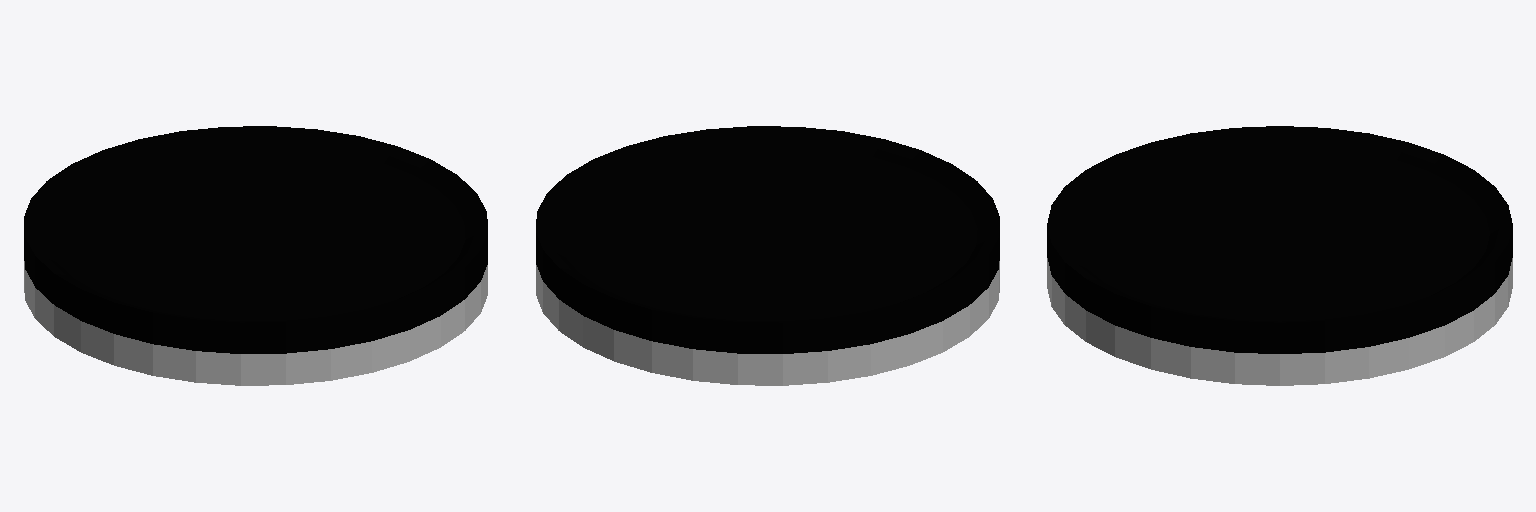
File: disk.obj
3 views of the same model, side by side, from view 1: azimuth 30°, elevation 25°; view 2: azimuth 150°, elevation 25°; view 3: azimuth 270°, elevation 25° (orthographic).
Parts seen in each view (by area): view 1: Cylinder; view 2: Cylinder; view 3: Cylinder.
Boxes of the visible parts, <box> form: Cylinder: <box>24,126,487,385</box>; Cylinder: <box>536,126,999,385</box>; Cylinder: <box>1047,126,1512,385</box>.
Size of the model in its own units: 40 by 6 by 40.